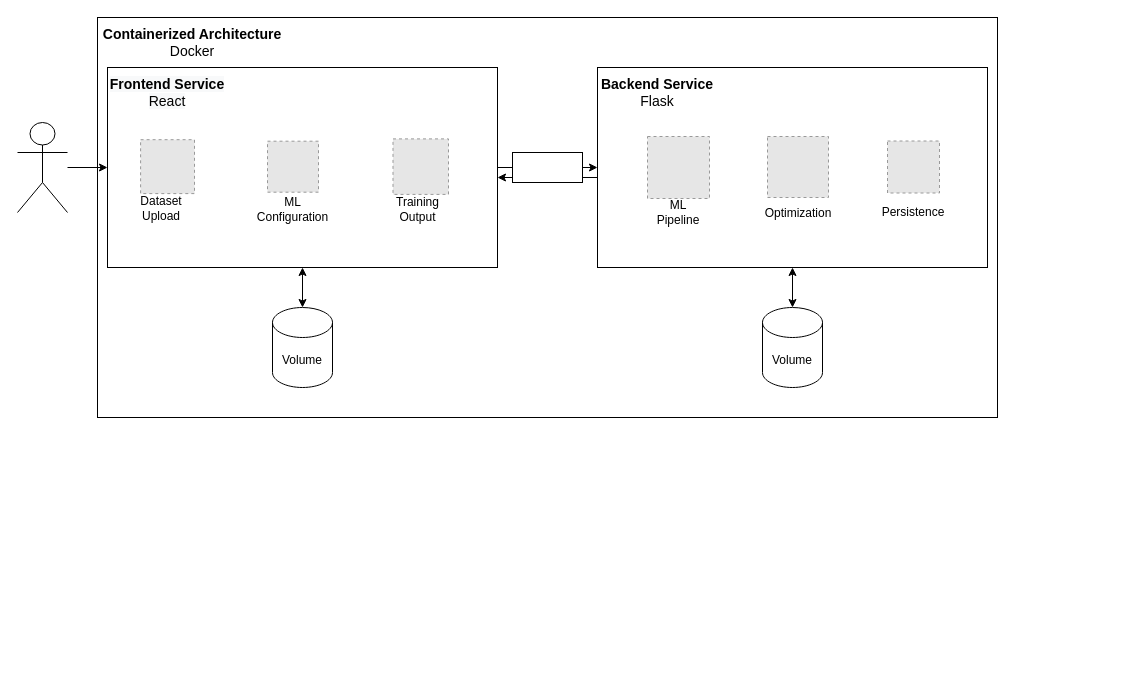
This 1137x697 diagram has some shape labels left out. Grey dashed boxes stand in for pictures. Here are the shapes that lost their labels. From the top down, the centre of each, then its label:
At point 42,167: "User".
At point 547,167: "HTTP".
